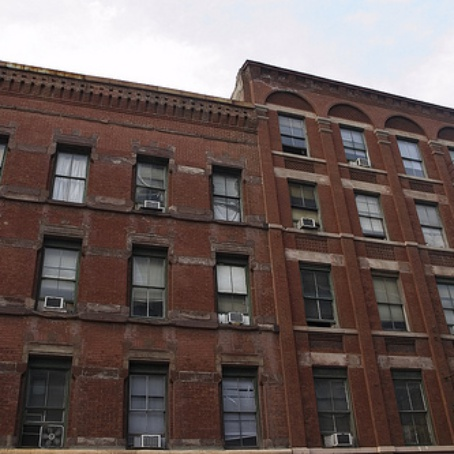building: (1, 75, 258, 454), (243, 64, 454, 454)
sky: (6, 1, 454, 67)
